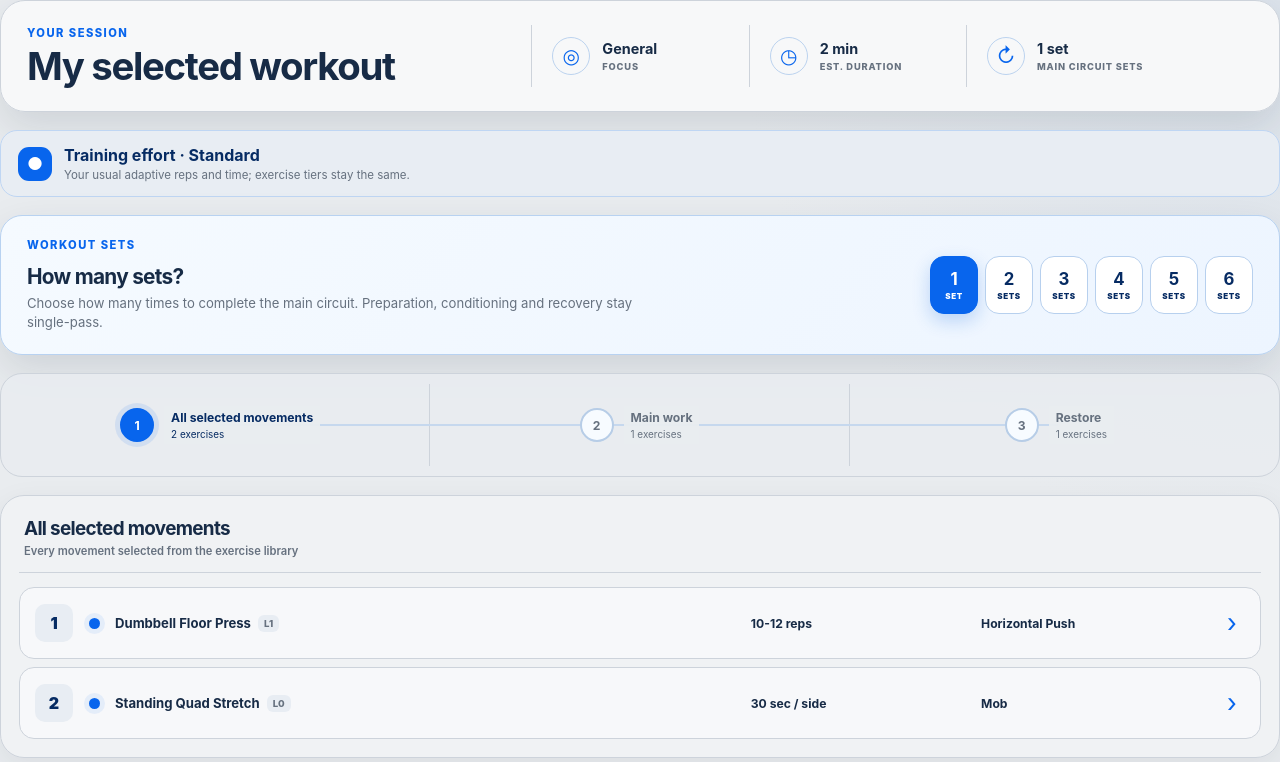
Test case: allows any exercise type in any routine section and focuses search
Click the button with aria-label "Restore, 1 exercises" at (1059, 425), box [850,384,1269,466]
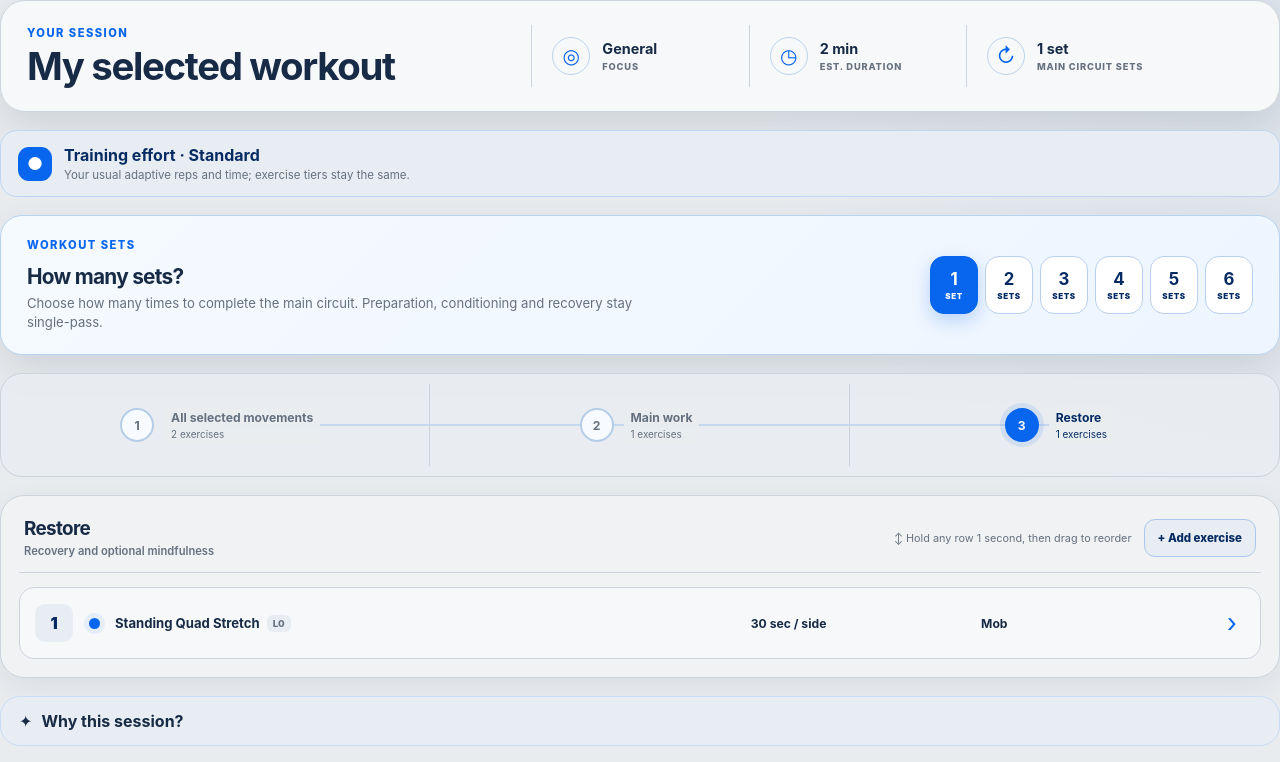
Click the button "+ Add exercise" at (1200, 538), box [1144,519,1256,557]
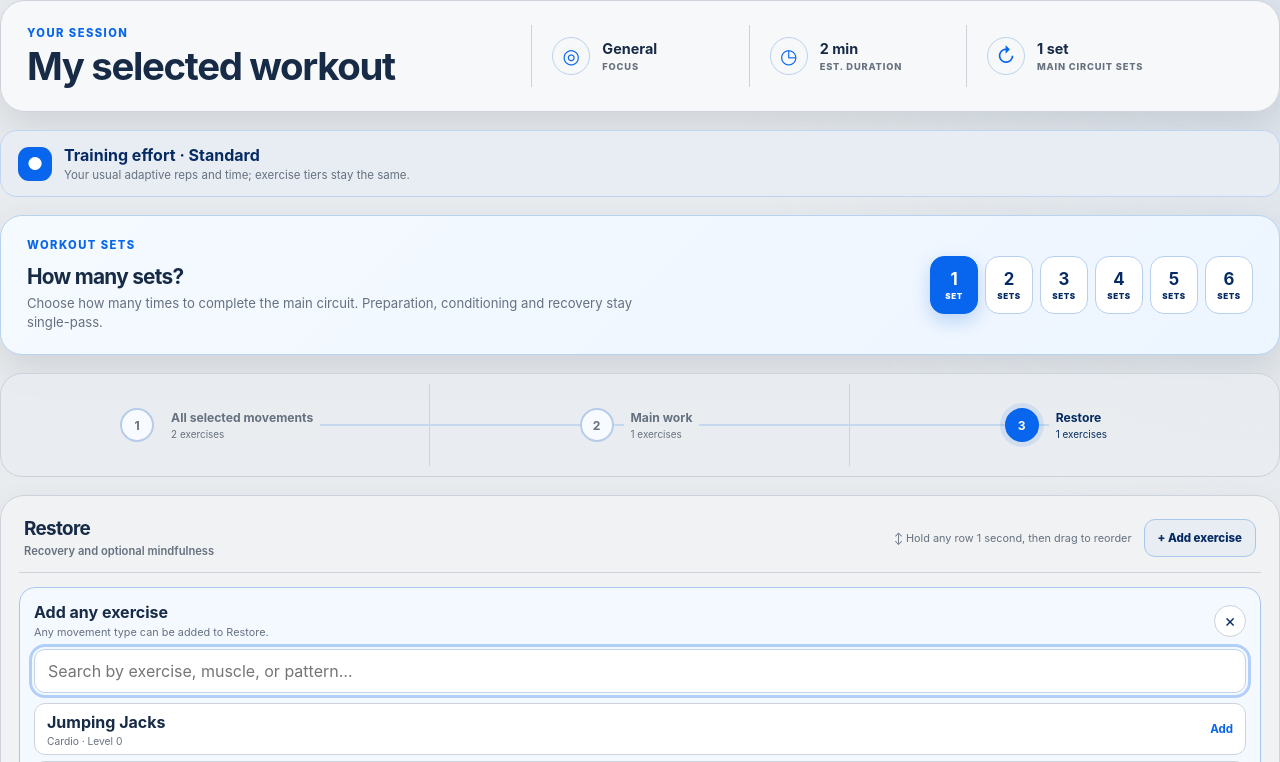
Type "Dumbbell Floor Press" into the search field named "Search exercises to add" at (640, 671), box [34,649,1246,693]
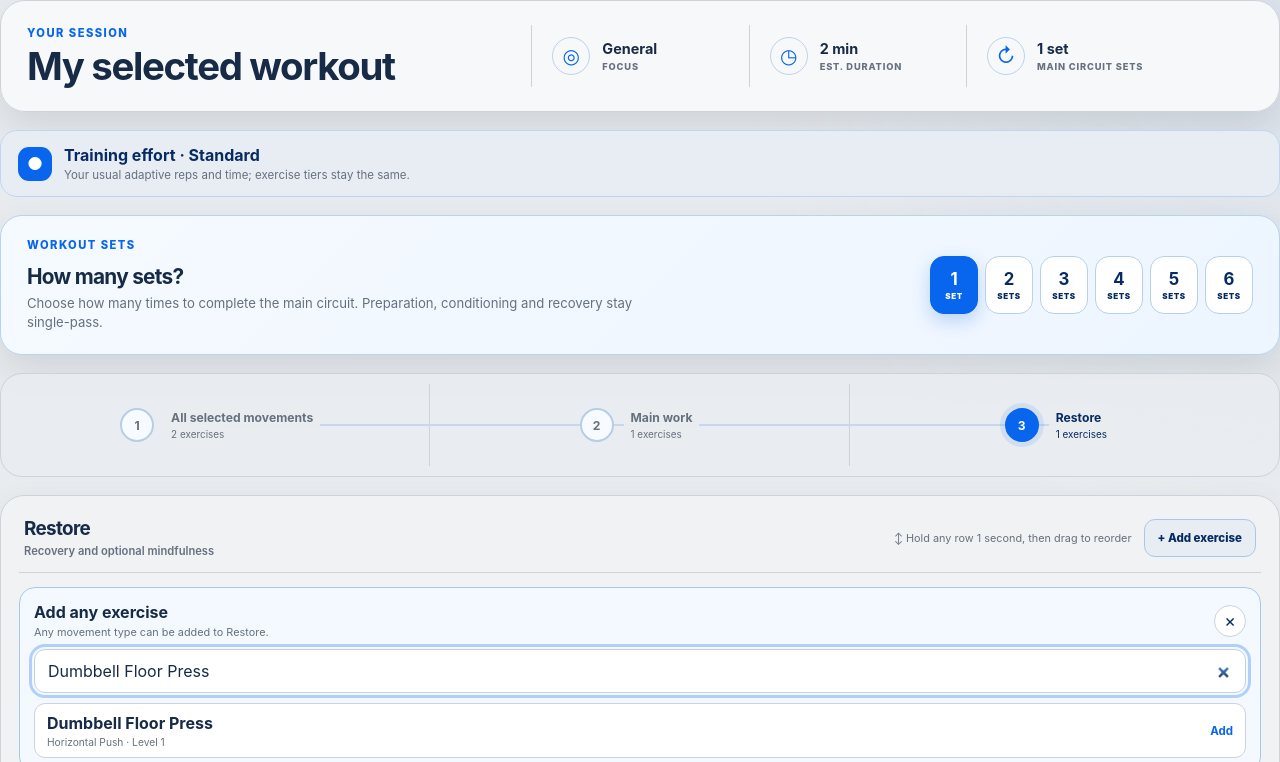
Expected: the button "Dumbbell Floor Press Horizontal Push · Level 1 Add" is shown, [34,703,1246,758]
